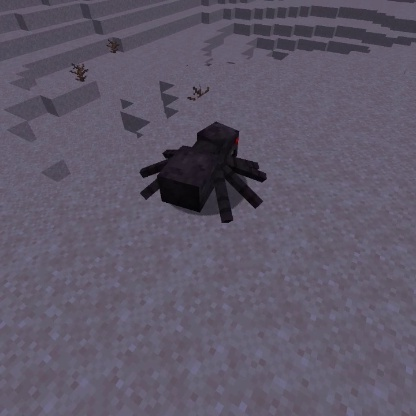spider: (135, 117, 270, 225)
